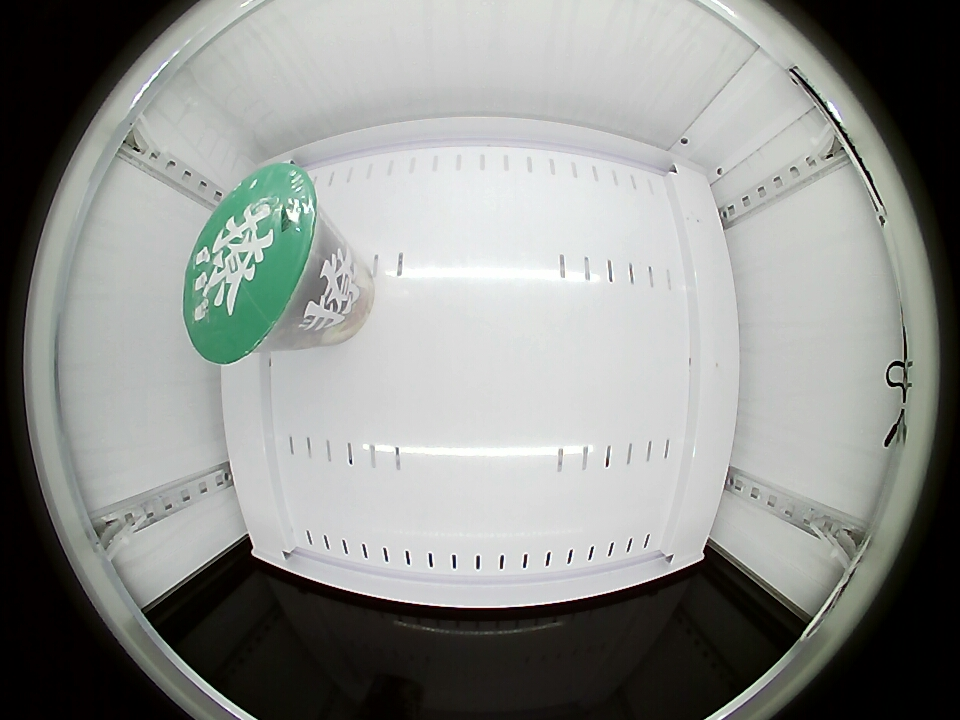liaomian: (183, 161, 329, 364)
